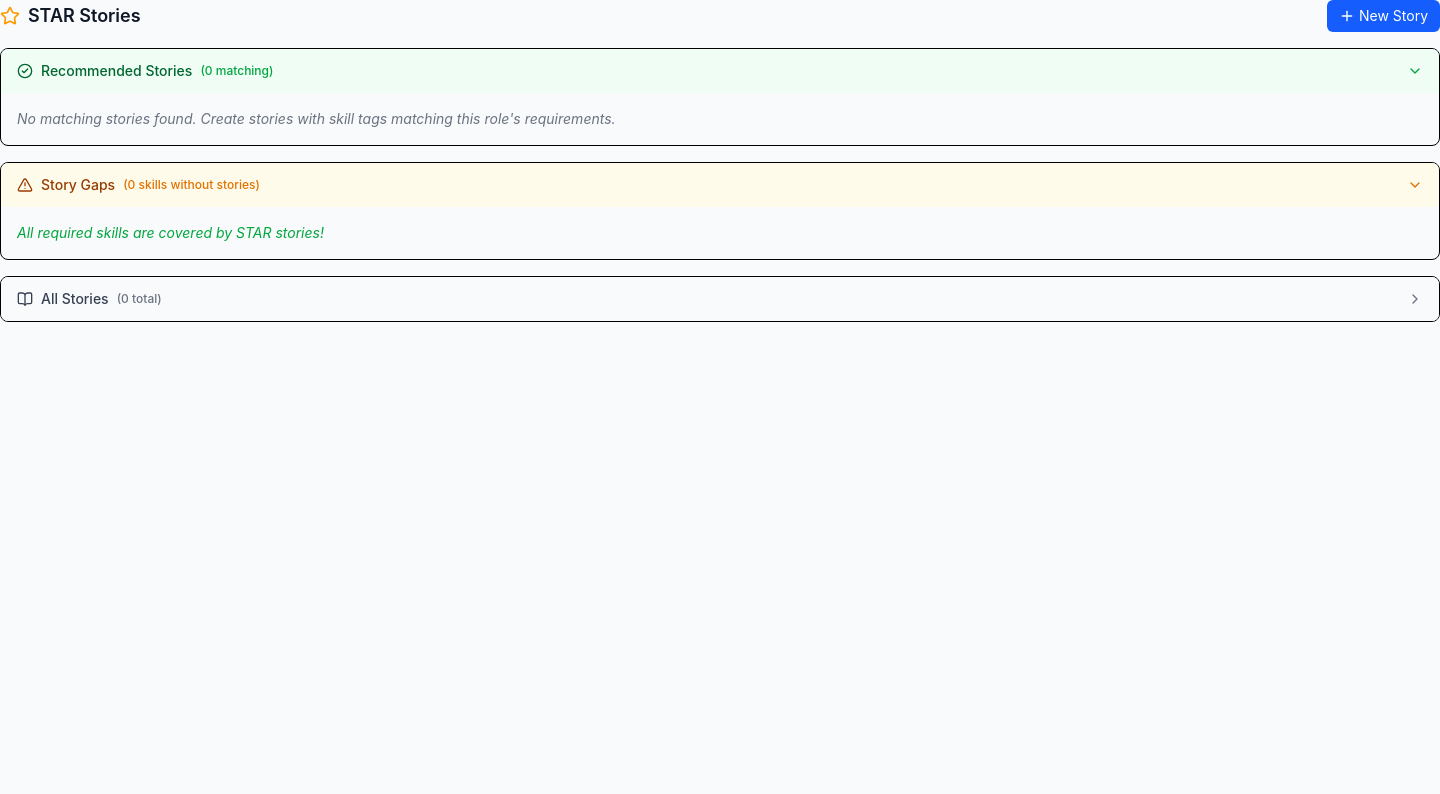
Test: StarStoriesSection › VAL-STAR-001: CRUD rendering › opens create form when New Story clicked
Click the button "New Story".
click(1384, 16)  # box [1327, 0, 1439, 32]
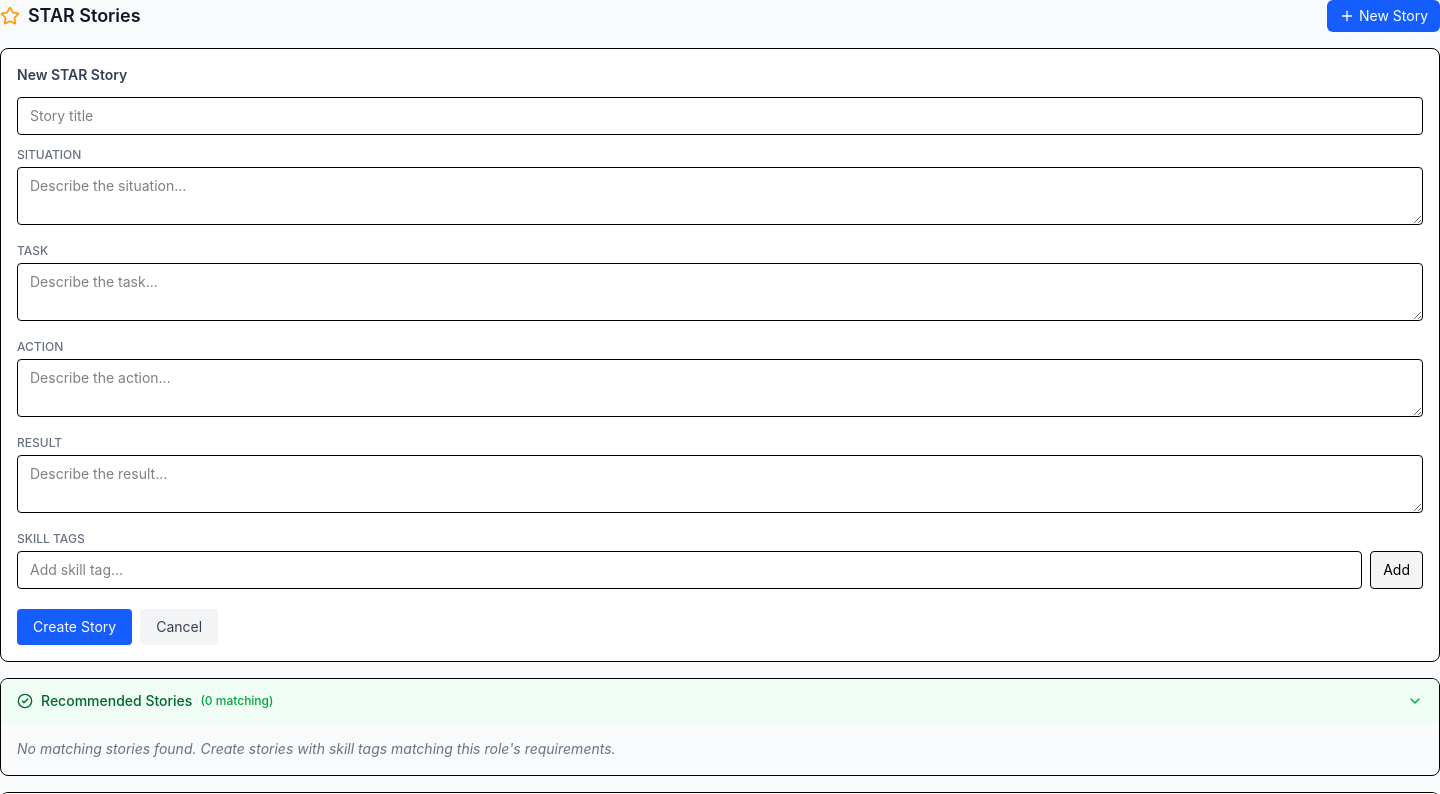
expect the heading "New STAR Story" is shown: met, box [17, 66, 127, 83]
expect the field with placeholder "Story title" is shown: met, box [17, 97, 1423, 135]
expect the text box with placeholder "Describe the situation..." is shown: met, box [17, 167, 1423, 225]
